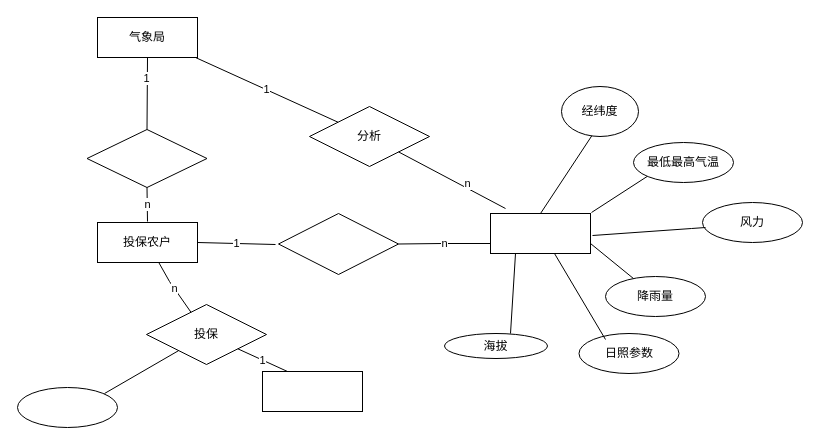
Some shapes in this 820 by 445 pixel diagram are drawn without their labels. Here are the shapes that lost their labels. From the top down, the box of each, then its label:
(86, 128, 207, 188): 预警
(278, 212, 398, 274): 拥有
(490, 212, 590, 254): 投保地
(16, 386, 118, 428): 保险赔付标准
(262, 370, 362, 412): 保险公司
